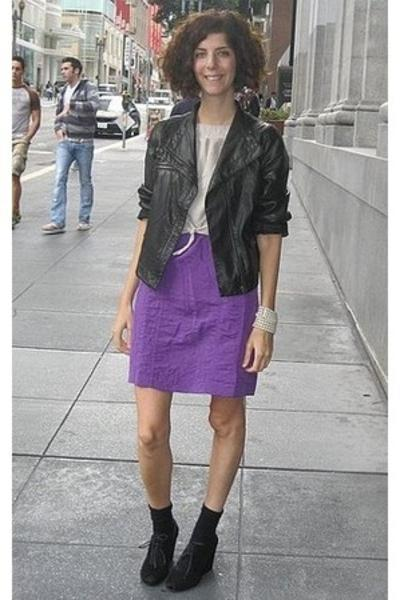jacket: (135, 91, 291, 296)
shirt: (182, 122, 227, 234)
shoe: (140, 531, 217, 592)
skirt: (113, 233, 274, 395)
